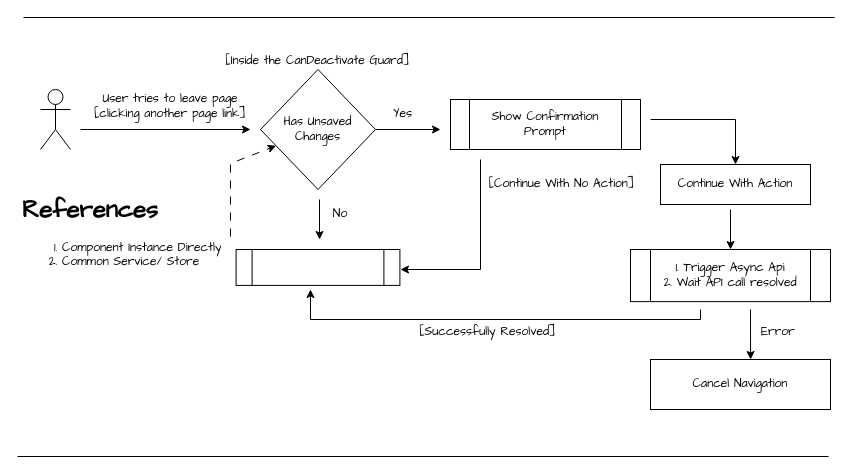
The diagram is 853 pixels wide and 475 high, and some of its shapes have lost their labels. The shapes that lost their labels are listed below. From the top down, each one's centre as x and y in pixels, then its label:
(x=55, y=119): Actor
(x=317, y=266): Continue Navigation
